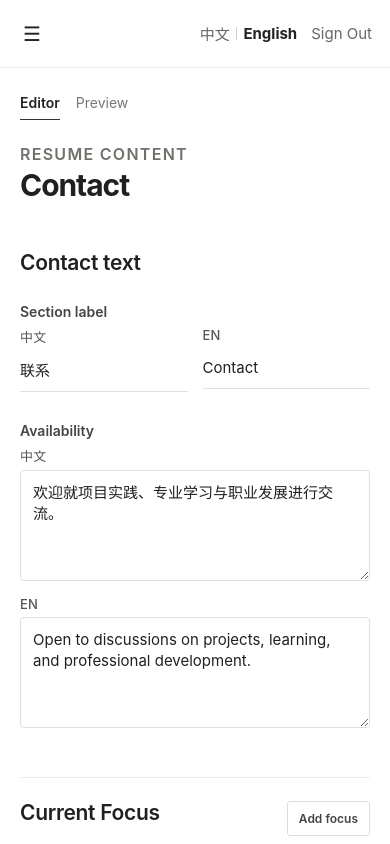
Scenario: Stage 4B fixture shell › allows editing Chinese Availability and keeps the compact menu accessible
Click the button named "Open menu": (32, 34) [16,16,48,50]
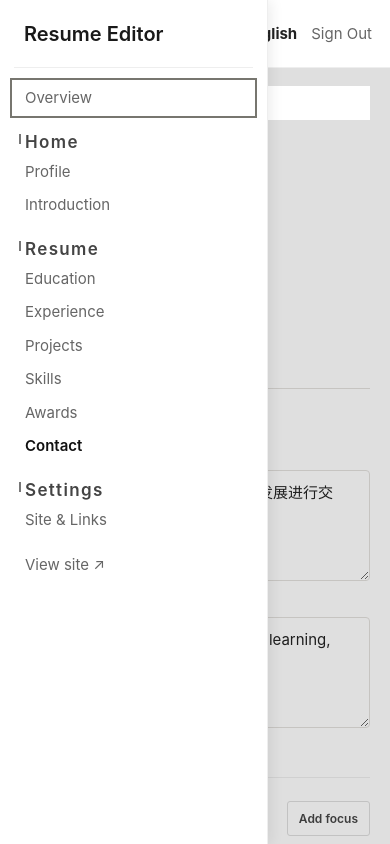
Expected: the button named "Open menu" is expanded, [16,16,48,50]
Press Escape
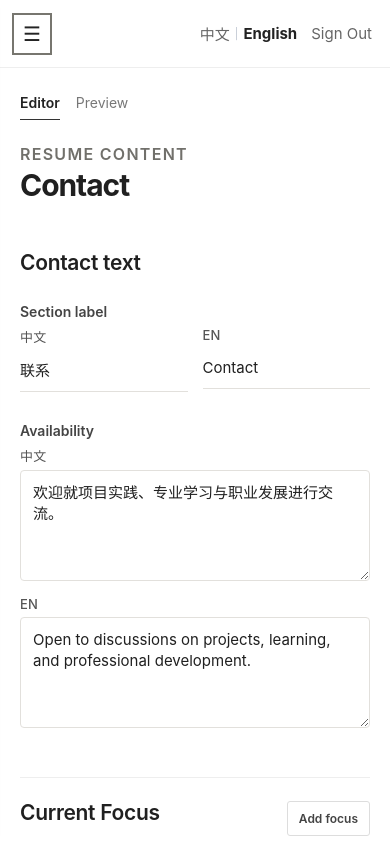
Expected: the button named "Open menu" is collapsed, [16,16,48,50]
